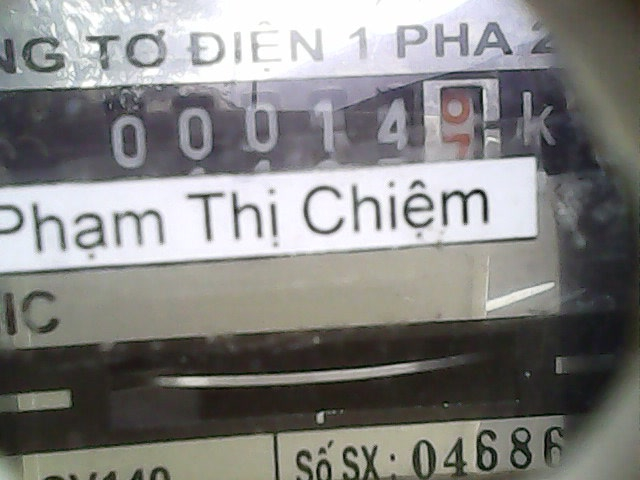phy_plate: (92, 72, 515, 180)
